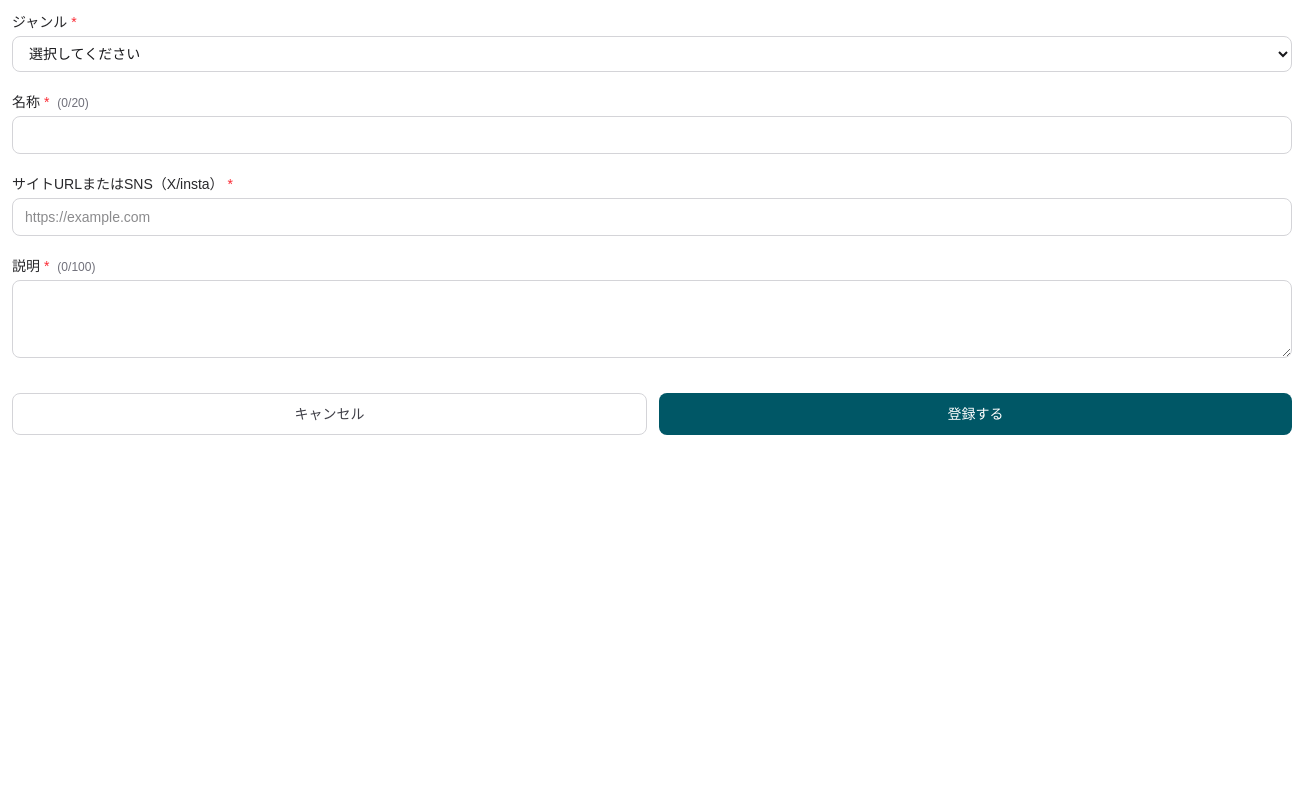
Scenario: ListingForm › ジャンル選択でカテゴリが絞り込まれる
Select "バー・飲食店" in the dropdown at {"x": 652, "y": 54}, box [12,36,1292,72]
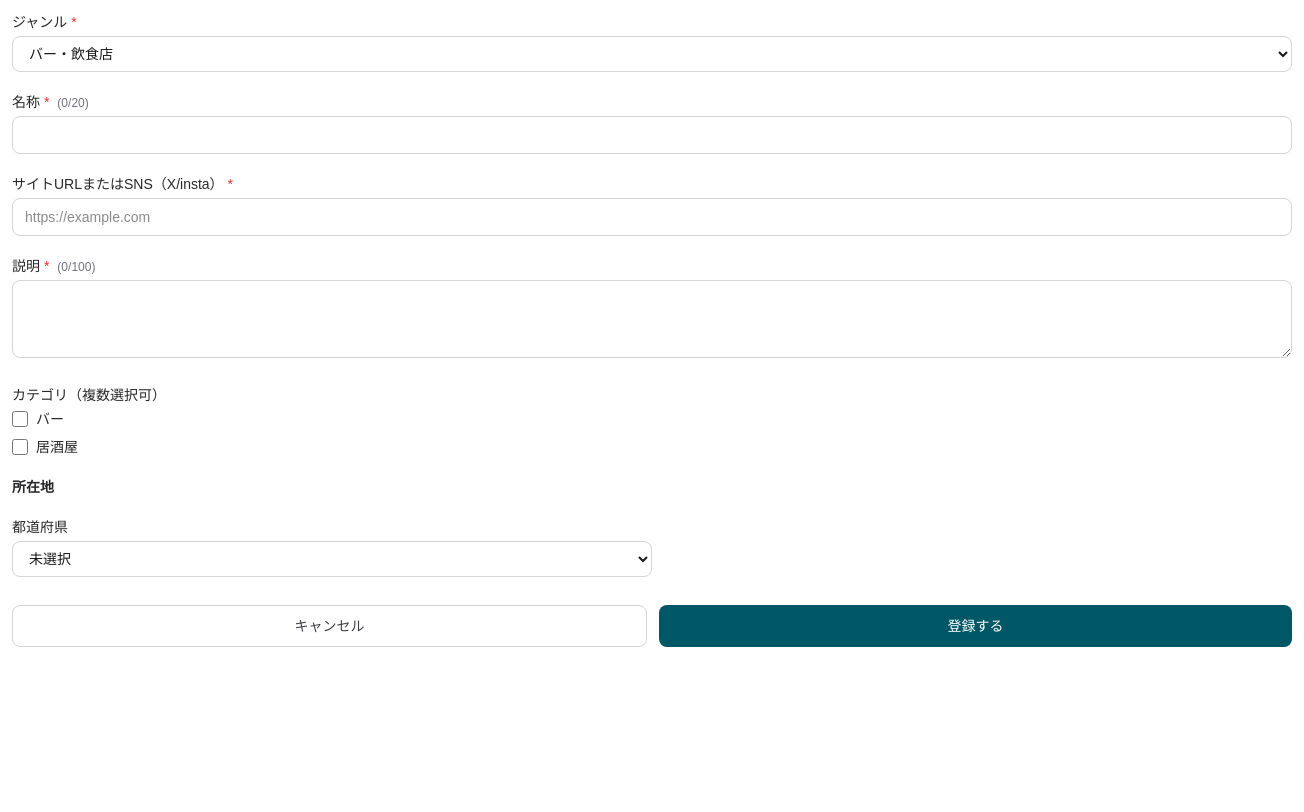
expect the checkbox labelled "バー" is shown: met, box [12,411,28,427]
expect the checkbox labelled "居酒屋" is shown: met, box [12,439,28,455]
